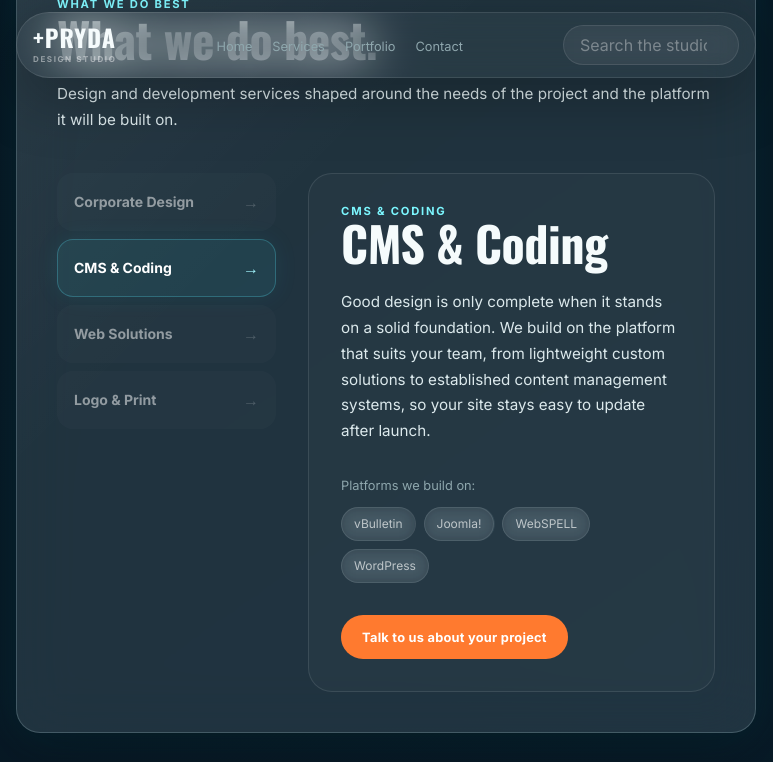
services › switches the desktop tab panel
(page scrolled)
expect the heading "CMS & Coding" is shown: met, box 341,207 -> 608,278
expect the text "WordPress" is shown: met, box 341,549 -> 429,583
What coordinates should you click on to do the following:
click the tab "Logo & Print →"
I would click on:
 (167, 400)
Its box is 57,371 -> 276,429.
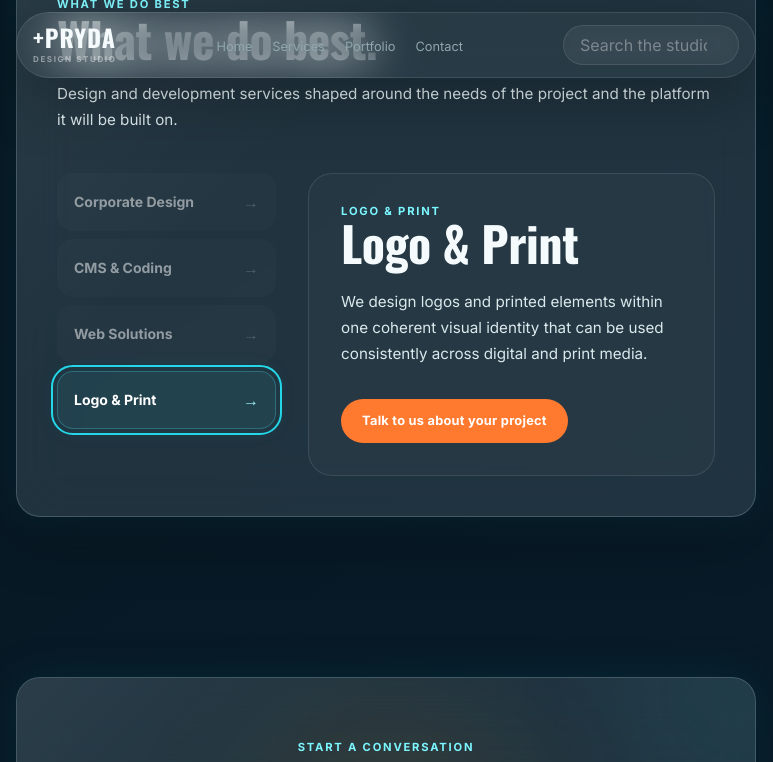
expect the heading "Logo & Print" is shown: met, box 341,207 -> 578,278
expect the text "WordPress" is gone: met
